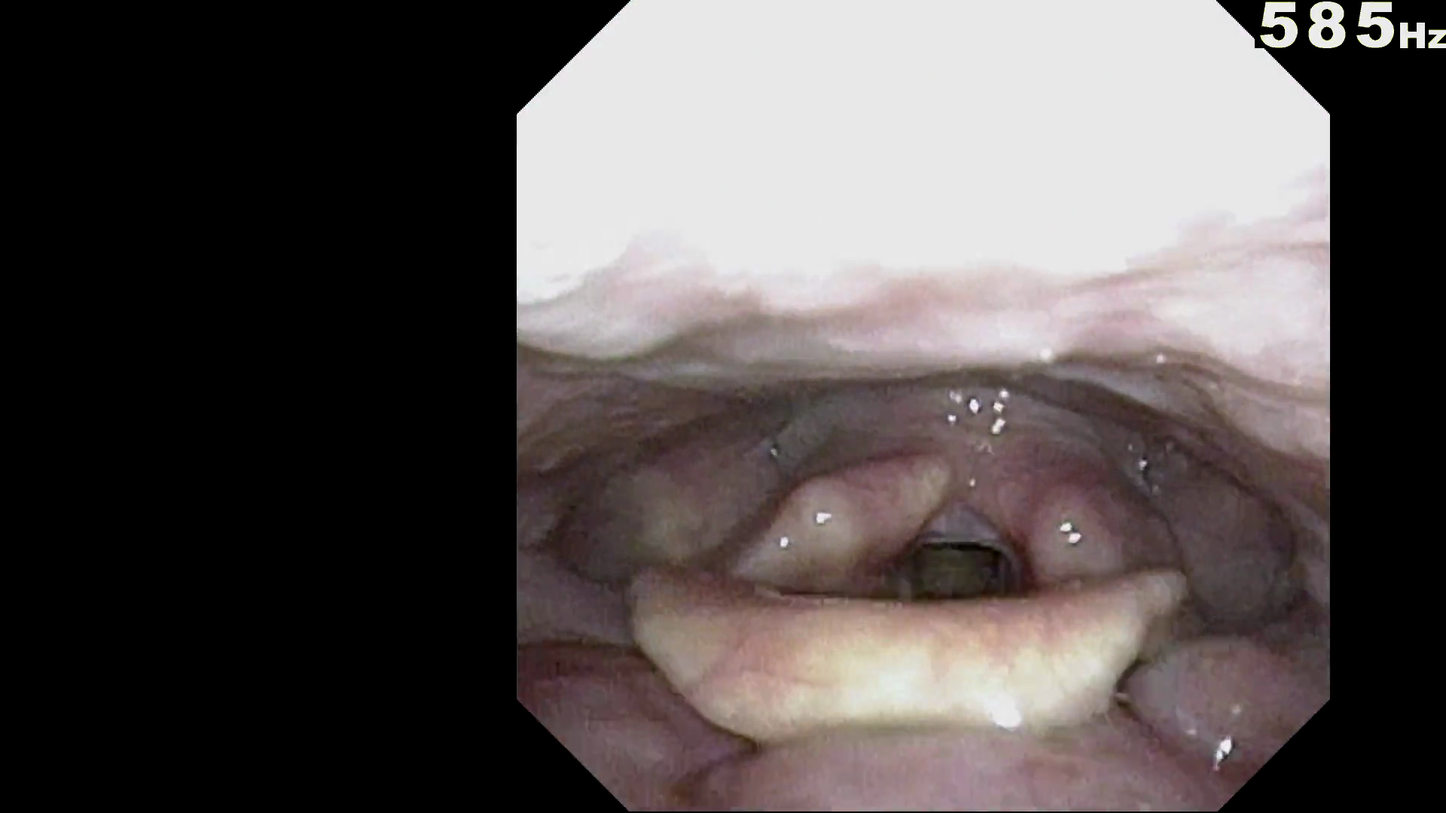epiglottis: (647, 601, 1189, 740)
trachea: (897, 535, 1025, 636)
